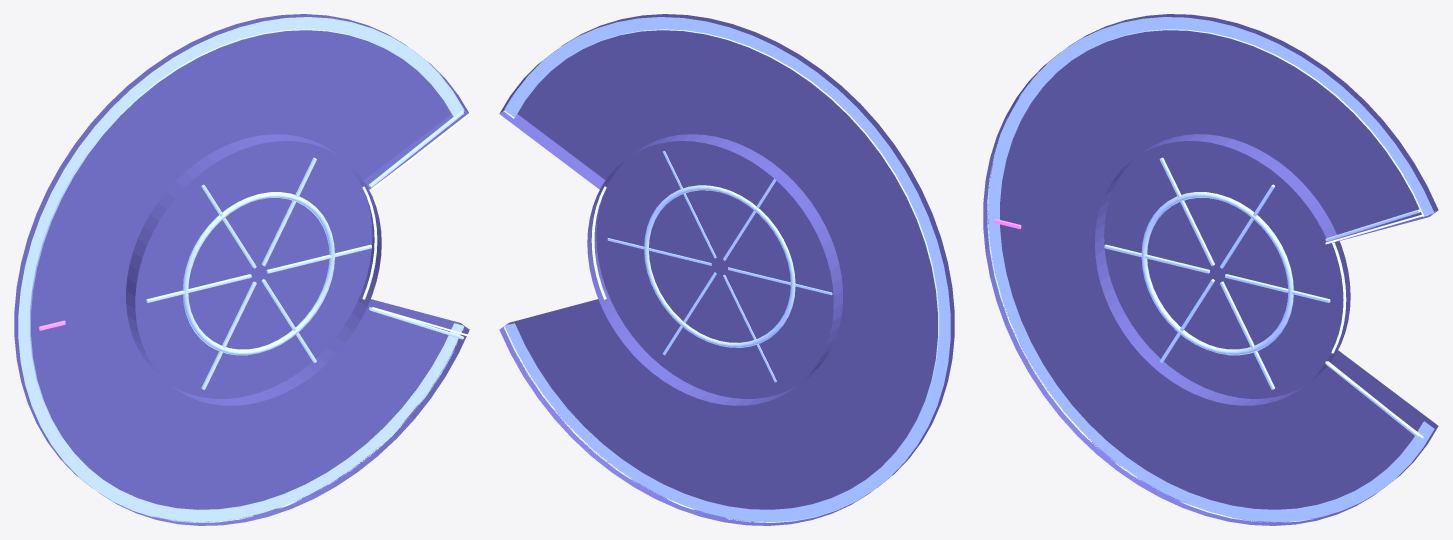
The model's file is prism-panel-fun7-high.glb.
3 views of the same model, side by side, from view 1: azimuth 30°, elevation 25°; view 2: azimuth 150°, elevation 25°; view 3: azimuth 330°, elevation 25° (orthographic).
Visible parts, largest first — view 1: RENDER_PANEL_SHELL, RENDER_PANEL_FRAME, RENDER_PANEL_SIGNAL; view 2: RENDER_PANEL_SHELL, RENDER_PANEL_FRAME; view 3: RENDER_PANEL_SHELL, RENDER_PANEL_FRAME, RENDER_PANEL_SIGNAL.
Boxes of the visible parts, box(x1,y1,x2,y2) form: RENDER_PANEL_SHELL: box(14, 14, 469, 525); RENDER_PANEL_FRAME: box(18, 17, 465, 522); RENDER_PANEL_SIGNAL: box(362, 113, 470, 336); RENDER_PANEL_SHELL: box(499, 14, 954, 525); RENDER_PANEL_FRAME: box(503, 17, 950, 522); RENDER_PANEL_SHELL: box(983, 14, 1438, 525); RENDER_PANEL_FRAME: box(987, 17, 1434, 522); RENDER_PANEL_SIGNAL: box(1325, 214, 1423, 438).
Size of what is drawn, in the model's own units: 38.9 by 40.96 by 1.95.
